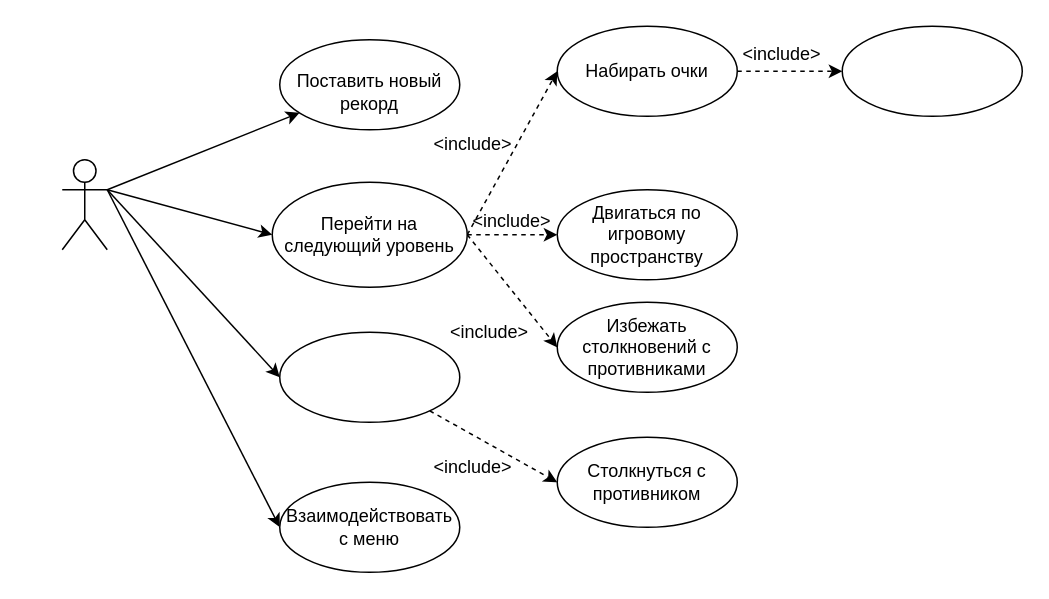
Image size: 1049x599. Some labels were removed from this diagram. Each missing label, with the box of its shape:
Пользователь: (61, 158, 107, 250)
Потерпеть поражение: (278, 331, 460, 422)
Собирать точки: (841, 25, 1022, 116)
